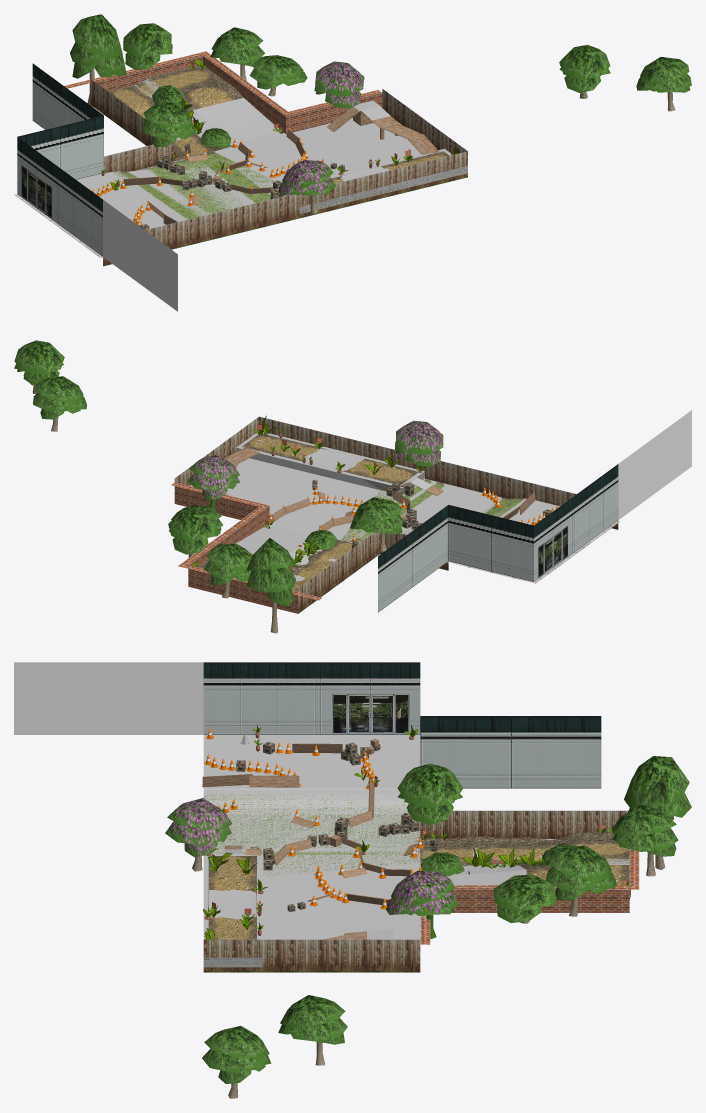
File: rctimetrial.obj
3 views of the same model, one above another, from view 1: azimuth 30°, elevation 25°; view 2: azimuth 150°, elevation 25°; view 3: azimuth 270°, elevation 25° (orthographic). The views are drawn at different scales.
Parts seen in each view (by area): view 1: ProxyKitchenAll_Untitled.150, Kitchen:Fence_Untitled.132, Kitchen:Wall1_Untitled.107, ExtraWall_Untitled.202, Kitchen:Grass_Untitled.034, Kitchen:Brick_Untitled.212, Tree2Blossom_(4)_Untitled.056, Kitchen:Door_Untitled.129, Kitchen:Dirt3_Untitled.025, Tree2_(4)_Untitled.084, Tree2Blossom_(1)_Untitled.228, Tree2Blossom_(2)_Untitled.134 (+13 smaller); view 2: ProxyKitchenAll_Untitled.150, Kitchen:Wall1_Untitled.107, Kitchen:Fence_Untitled.132, ExtraWall_Untitled.202, Kitchen:Brick_Untitled.212, Tree2Blossom_(4)_Untitled.056, Kitchen:Door_Untitled.129, Tree2_(4)_Untitled.084, Tree2Blossom_(3)_Untitled.218, Tree2_(2)_Untitled.037, Tree2Blossom_(1)_Untitled.228, Tree2Blossom_(2)_Untitled.134 (+11 smaller); view 3: ProxyKitchenAll_Untitled.150, Kitchen:Wall1_Untitled.107, ExtraWall_Untitled.202, Kitchen:Fence_Untitled.132, Kitchen:Door_Untitled.129, Kitchen:Grass_Untitled.034, Tree2Blossom_(4)_Untitled.056, Tree2_(2)_Untitled.037, Tree2_(1)_Untitled.223, Tree2Blossom_(5)_Untitled.062, Tree2Blossom_(3)_Untitled.218, Tree2_(4)_Untitled.084 (+12 smaller).
Boxes of the visible parts, <box> form: ProxyKitchenAll_Untitled.150: <box>76,78,467,228</box>; Kitchen:Fence_Untitled.132: <box>90,79,467,266</box>; Kitchen:Wall1_Untitled.107: <box>17,63,103,256</box>; ExtraWall_Untitled.202: <box>103,200,177,311</box>; Kitchen:Grass_Untitled.034: <box>115,153,274,219</box>; Kitchen:Brick_Untitled.212: <box>95,56,382,133</box>; Tree2Blossom_(4)_Untitled.056: <box>70,14,126,106</box>; Kitchen:Door_Untitled.129: <box>17,137,56,222</box>; Kitchen:Dirt3_Untitled.025: <box>109,66,238,109</box>; Tree2_(4)_Untitled.084: <box>559,44,610,98</box>; Tree2Blossom_(1)_Untitled.228: <box>314,61,364,108</box>; Tree2Blossom_(2)_Untitled.134: <box>123,23,172,70</box>; ProxyKitchenAll_Untitled.150: <box>190,431,559,581</box>; Kitchen:Wall1_Untitled.107: <box>378,464,618,612</box>; Kitchen:Fence_Untitled.132: <box>174,416,618,613</box>; ExtraWall_Untitled.202: <box>618,410,691,519</box>; Kitchen:Brick_Untitled.212: <box>174,486,298,613</box>; Tree2Blossom_(4)_Untitled.056: <box>246,538,295,633</box>; Kitchen:Door_Untitled.129: <box>534,497,572,581</box>; Tree2_(4)_Untitled.084: <box>33,376,86,431</box>; Tree2Blossom_(3)_Untitled.218: <box>395,420,443,467</box>; Tree2_(2)_Untitled.037: <box>168,507,218,557</box>; Tree2Blossom_(1)_Untitled.228: <box>187,454,239,510</box>; Tree2Blossom_(2)_Untitled.134: <box>204,543,252,598</box>; ProxyKitchenAll_Untitled.150: <box>203,735,629,967</box>; Kitchen:Wall1_Untitled.107: <box>203,662,601,788</box>; ExtraWall_Untitled.202: <box>14,662,203,734</box>; Kitchen:Fence_Untitled.132: <box>203,810,628,972</box>; Kitchen:Door_Untitled.129: <box>320,662,420,734</box>; Kitchen:Grass_Untitled.034: <box>211,794,413,875</box>; Tree2Blossom_(4)_Untitled.056: <box>624,756,691,869</box>; Tree2_(2)_Untitled.037: <box>545,845,616,916</box>; Tree2_(1)_Untitled.223: <box>397,763,462,824</box>; Tree2Blossom_(5)_Untitled.062: <box>202,1026,271,1098</box>; Tree2Blossom_(3)_Untitled.218: <box>165,798,232,871</box>; Tree2_(4)_Untitled.084: <box>278,995,347,1065</box>.
Size of what is drawn, in the model's own units: 72.23 by 10.61 by 55.77.
Materials: 198 (23 with a texture image).
